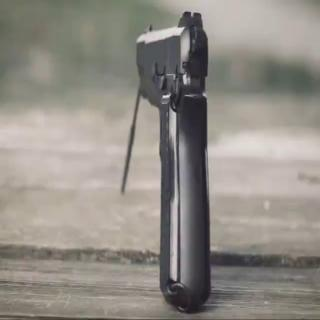gun: (129, 1, 223, 311)
